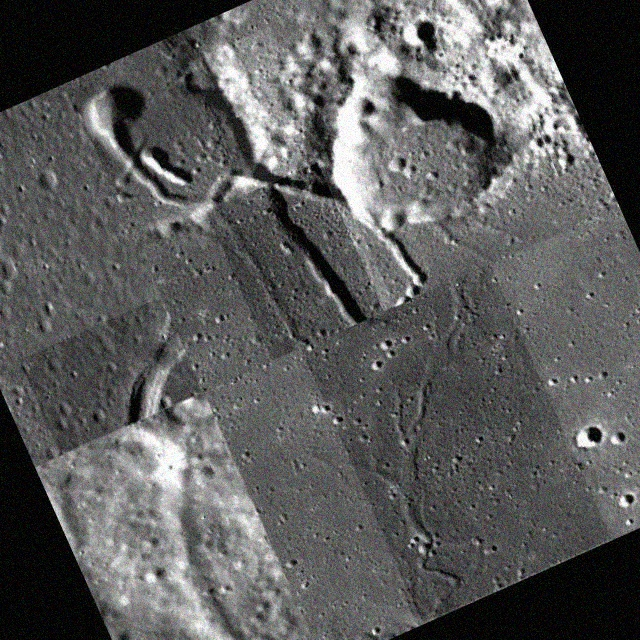crater: (74, 0, 435, 390), (301, 264, 612, 622), (35, 393, 324, 640), (188, 26, 394, 342), (206, 162, 384, 360), (19, 297, 202, 454)
